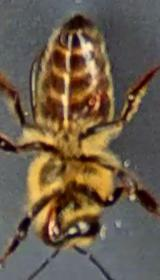varroa_mite: (70, 80, 111, 119)
